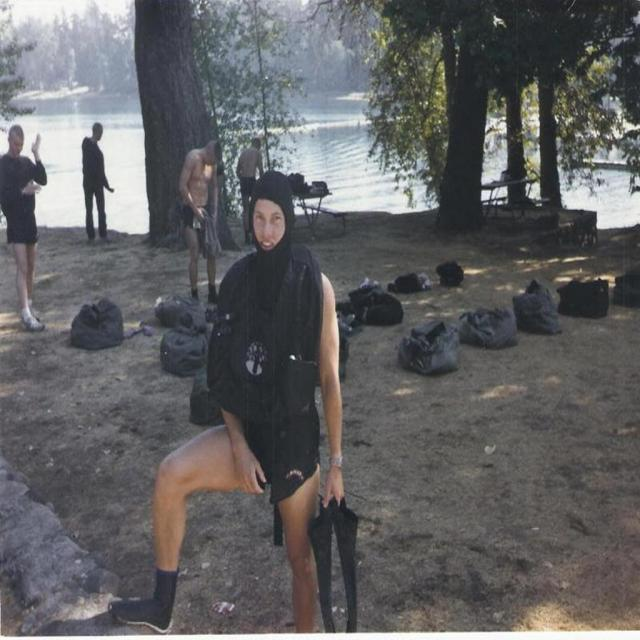nomask: (250, 194, 288, 256), (10, 136, 24, 156), (205, 153, 216, 165), (94, 127, 102, 140)
